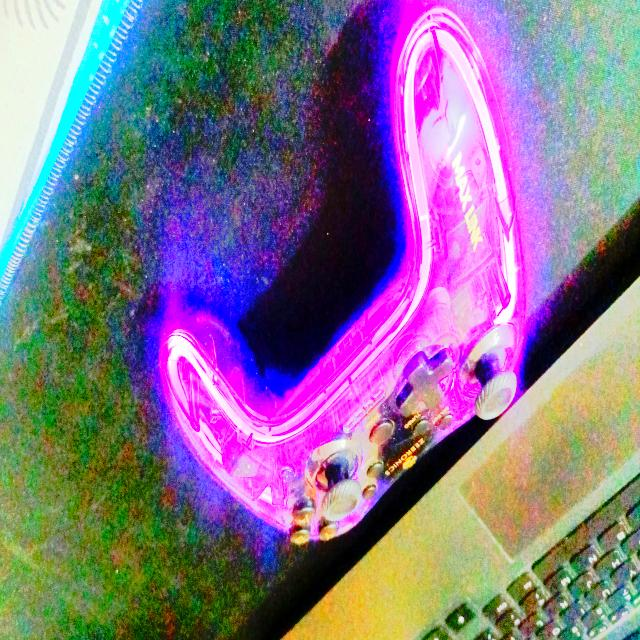gamepad: (158, 5, 528, 548)
